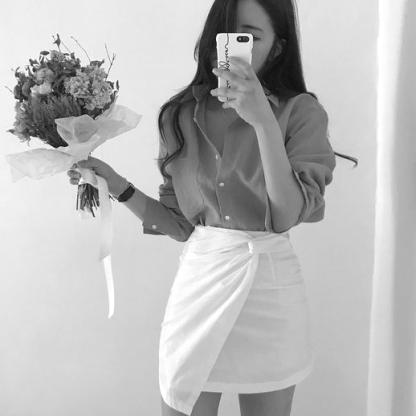dress: (134, 72, 328, 245)
jacket: (159, 225, 336, 414)
